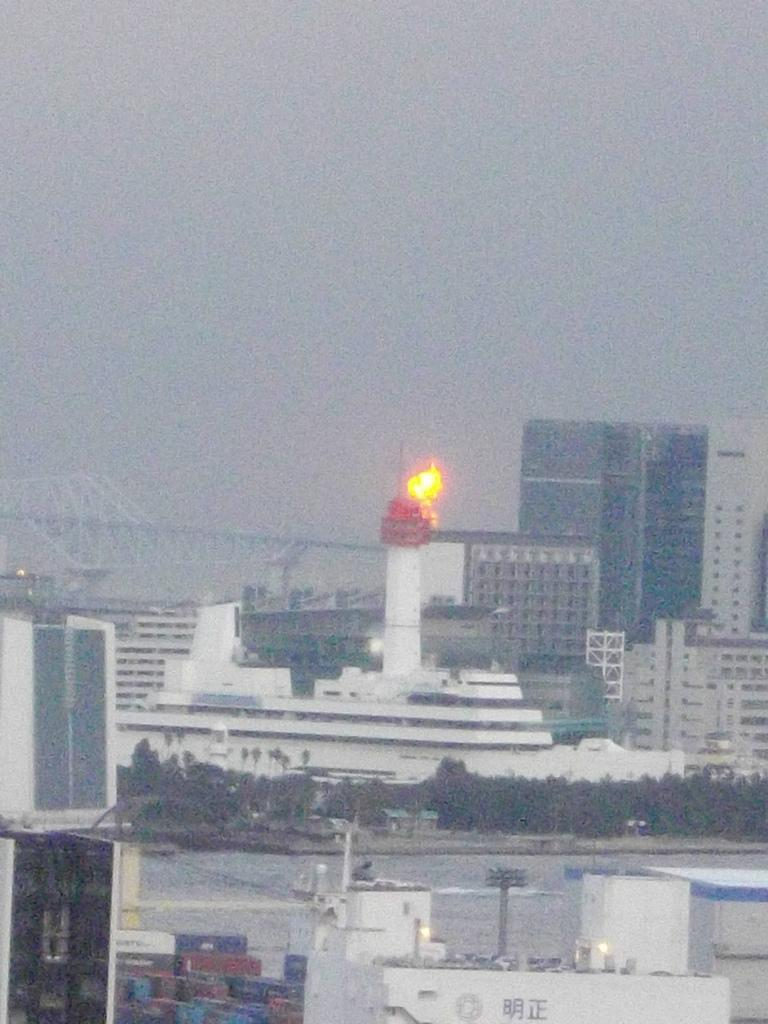fire: (400, 452, 452, 518)
